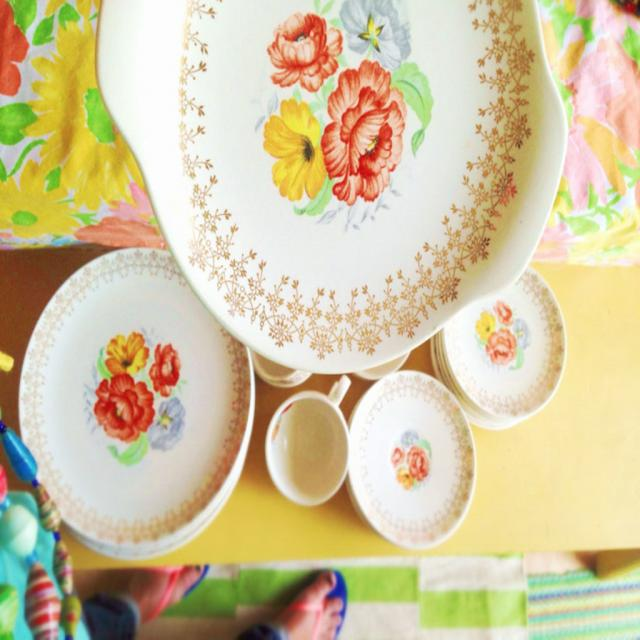non-organic waste: (95, 0, 567, 383), (15, 242, 252, 562), (331, 366, 488, 559), (426, 265, 580, 437)
